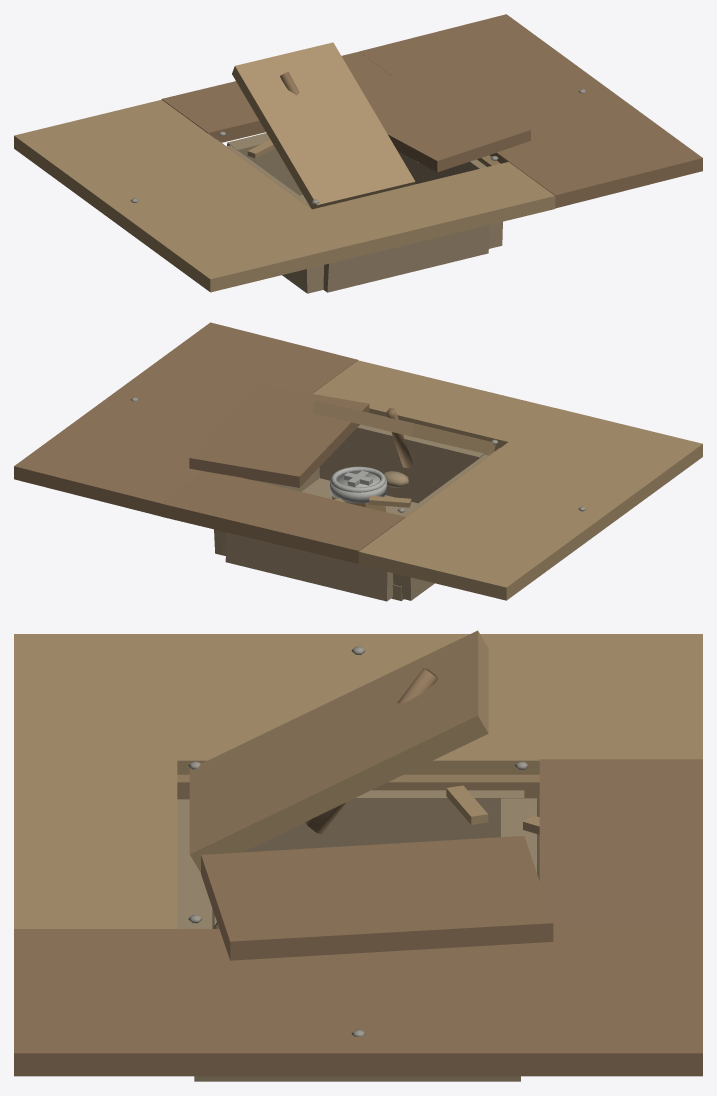
The model's file is mold_cavity.glb.
3 renders of one model, top to bottom at view 1: azimuth 30°, elevation 25°; view 2: azimuth 150°, elevation 25°; view 3: azimuth 270°, elevation 25°, orthographic. The views are drawn at different scales.
Parts seen in each view (by area): view 1: Mold_FloorFrame, Mold_LiftedBoards, Mold_Cavity; view 2: Mold_FloorFrame, Mold_LiftedBoards, Mold_Cavity, Mold_Die, Mold_Debris; view 3: Mold_FloorFrame, Mold_LiftedBoards, Mold_Cavity, Mold_Debris.
Part boxes in pixels (bbox=[...]): Mold_FloorFrame: bbox=[14, 14, 702, 292]; Mold_LiftedBoards: bbox=[232, 42, 530, 209]; Mold_Cavity: bbox=[217, 133, 502, 293]; Mold_FloorFrame: bbox=[14, 322, 702, 600]; Mold_LiftedBoards: bbox=[189, 384, 495, 487]; Mold_Cavity: bbox=[214, 424, 499, 601]; Mold_Die: bbox=[330, 466, 386, 511]; Mold_Debris: bbox=[334, 471, 411, 507]; Mold_FloorFrame: bbox=[14, 634, 702, 1076]; Mold_LiftedBoards: bbox=[189, 630, 553, 960]; Mold_Cavity: bbox=[177, 774, 539, 1081]; Mold_Debris: bbox=[213, 785, 539, 928].
Bounding box in the file's own units: 1.1 × 0.3589 × 0.76.
